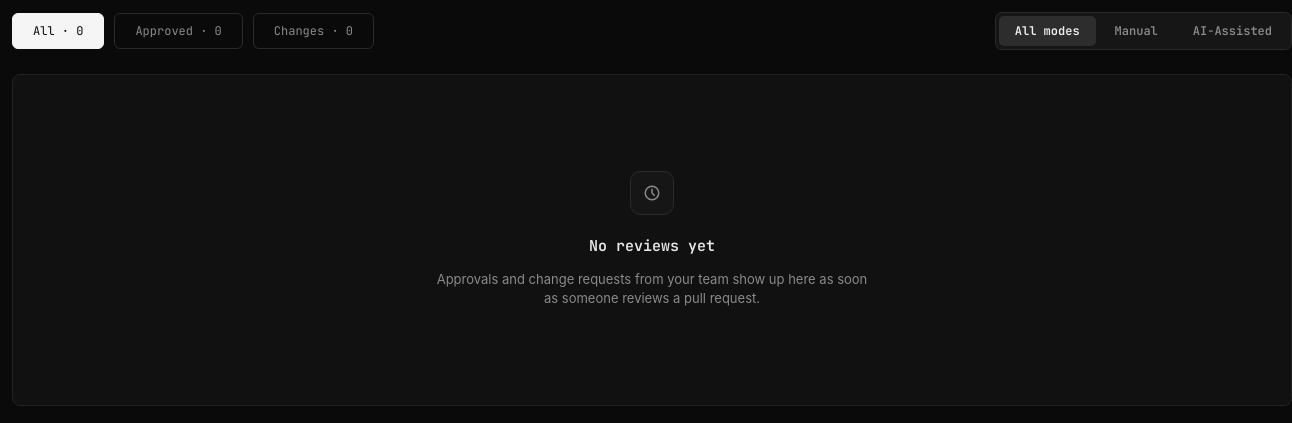
Test: ActivityView › shows the right empty state with and without filters
The image size is (1292, 423).
Expected: the heading "No reviews yet" is shown, x1=589 y1=235 x2=715 y2=258
Click the radio button labelled "Manual" at (1136, 31), box x1=1099 y1=16 x2=1174 y2=46
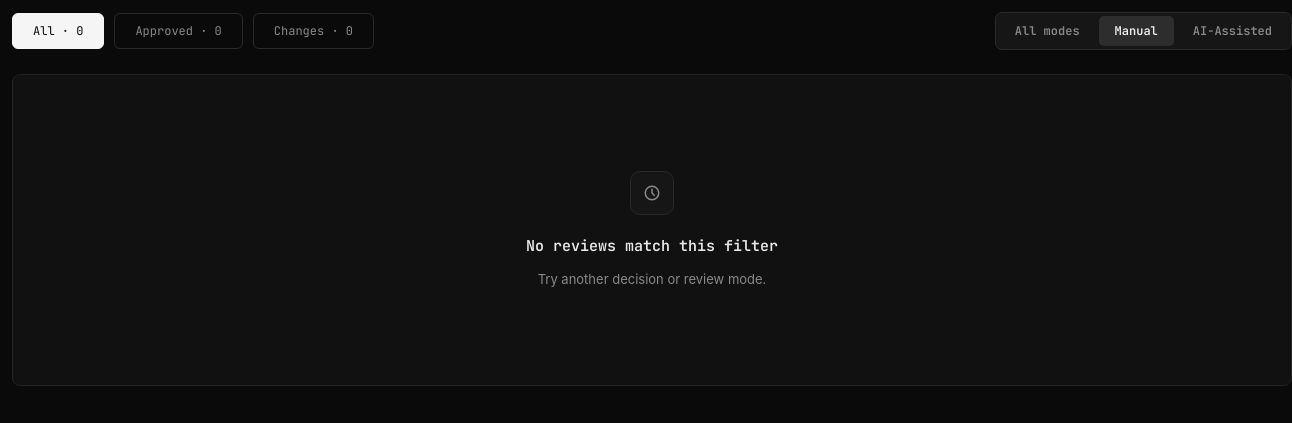
Result: the heading "No reviews match this filter" is shown at x1=526 y1=235 x2=778 y2=258
